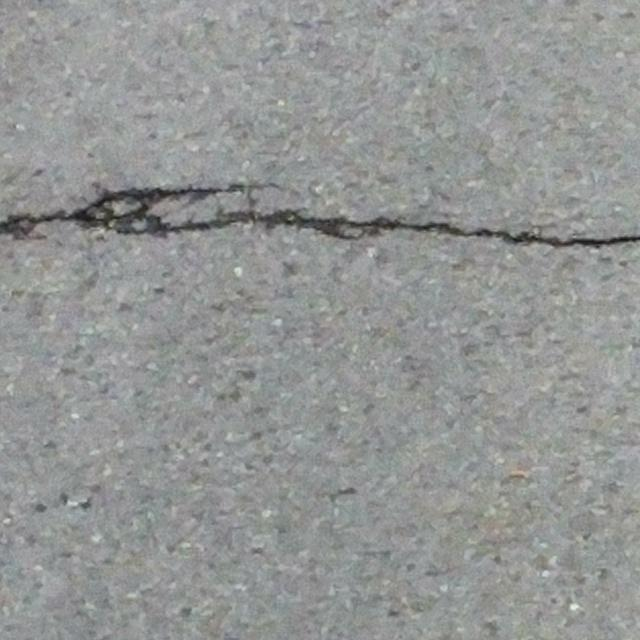TransverseCrack: (1, 183, 640, 250)
